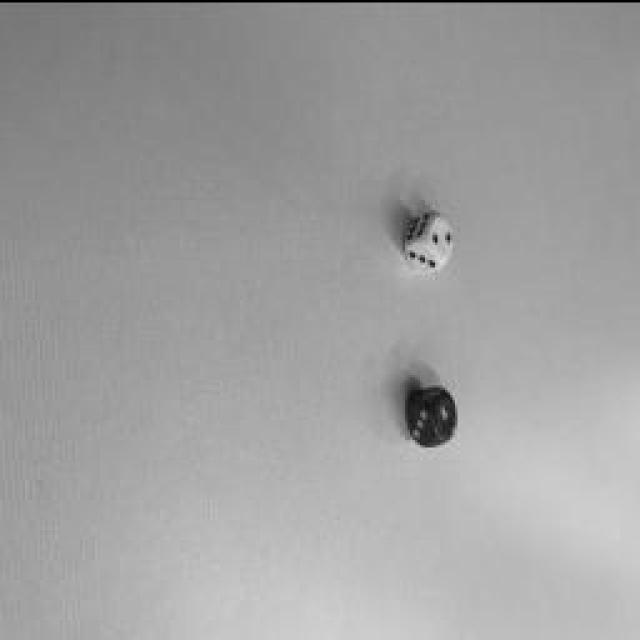dice_1: (432, 389, 458, 439)
dice_2: (427, 211, 455, 259)
